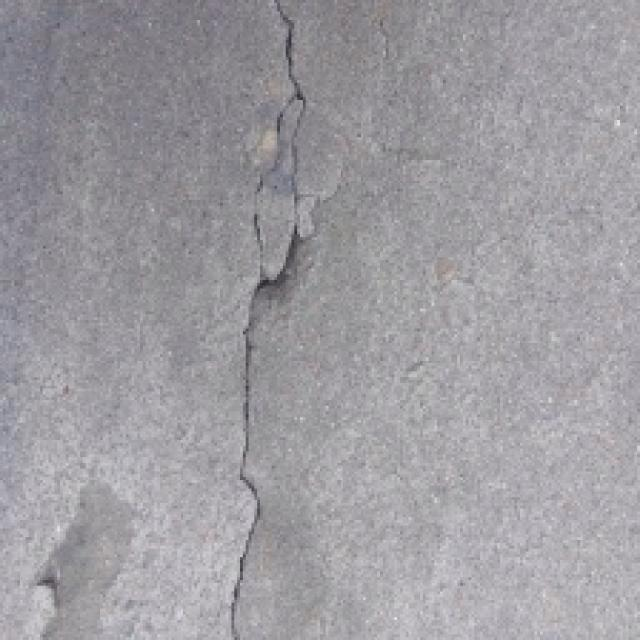crack: (190, 0, 352, 640)
